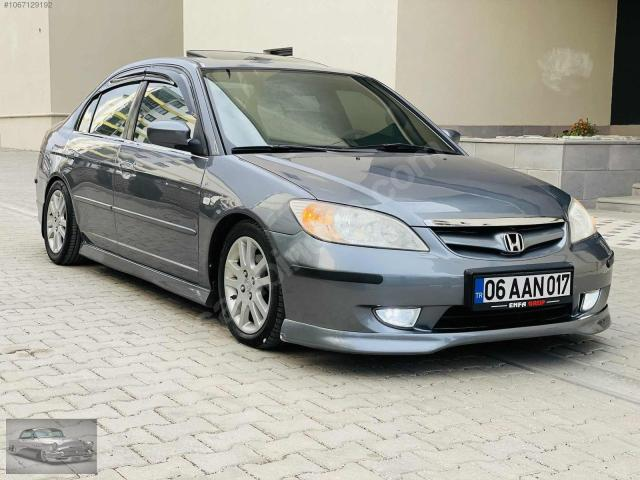plaka: (474, 270, 573, 304)
